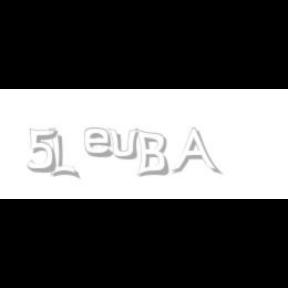5: (26, 128, 58, 174)
A: (171, 128, 219, 176)
B: (135, 128, 169, 178)
L: (49, 128, 77, 180)
e: (84, 128, 118, 158)
u: (108, 128, 142, 160)
